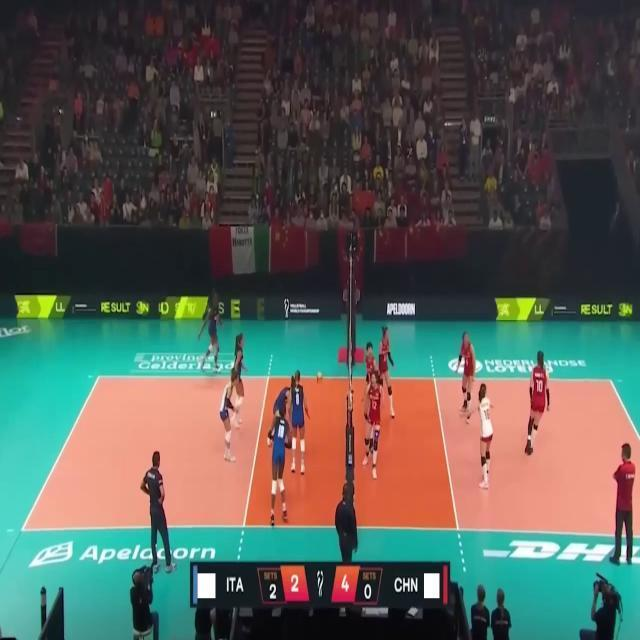volleyball: (316, 373, 324, 382)
